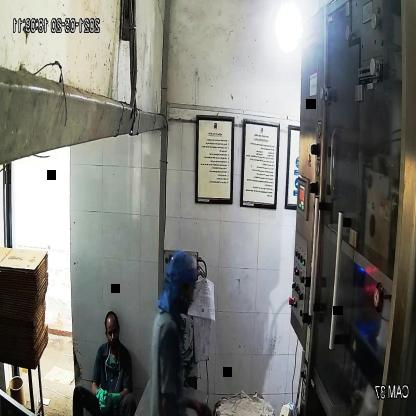no_goggles: (105, 323, 120, 340)
